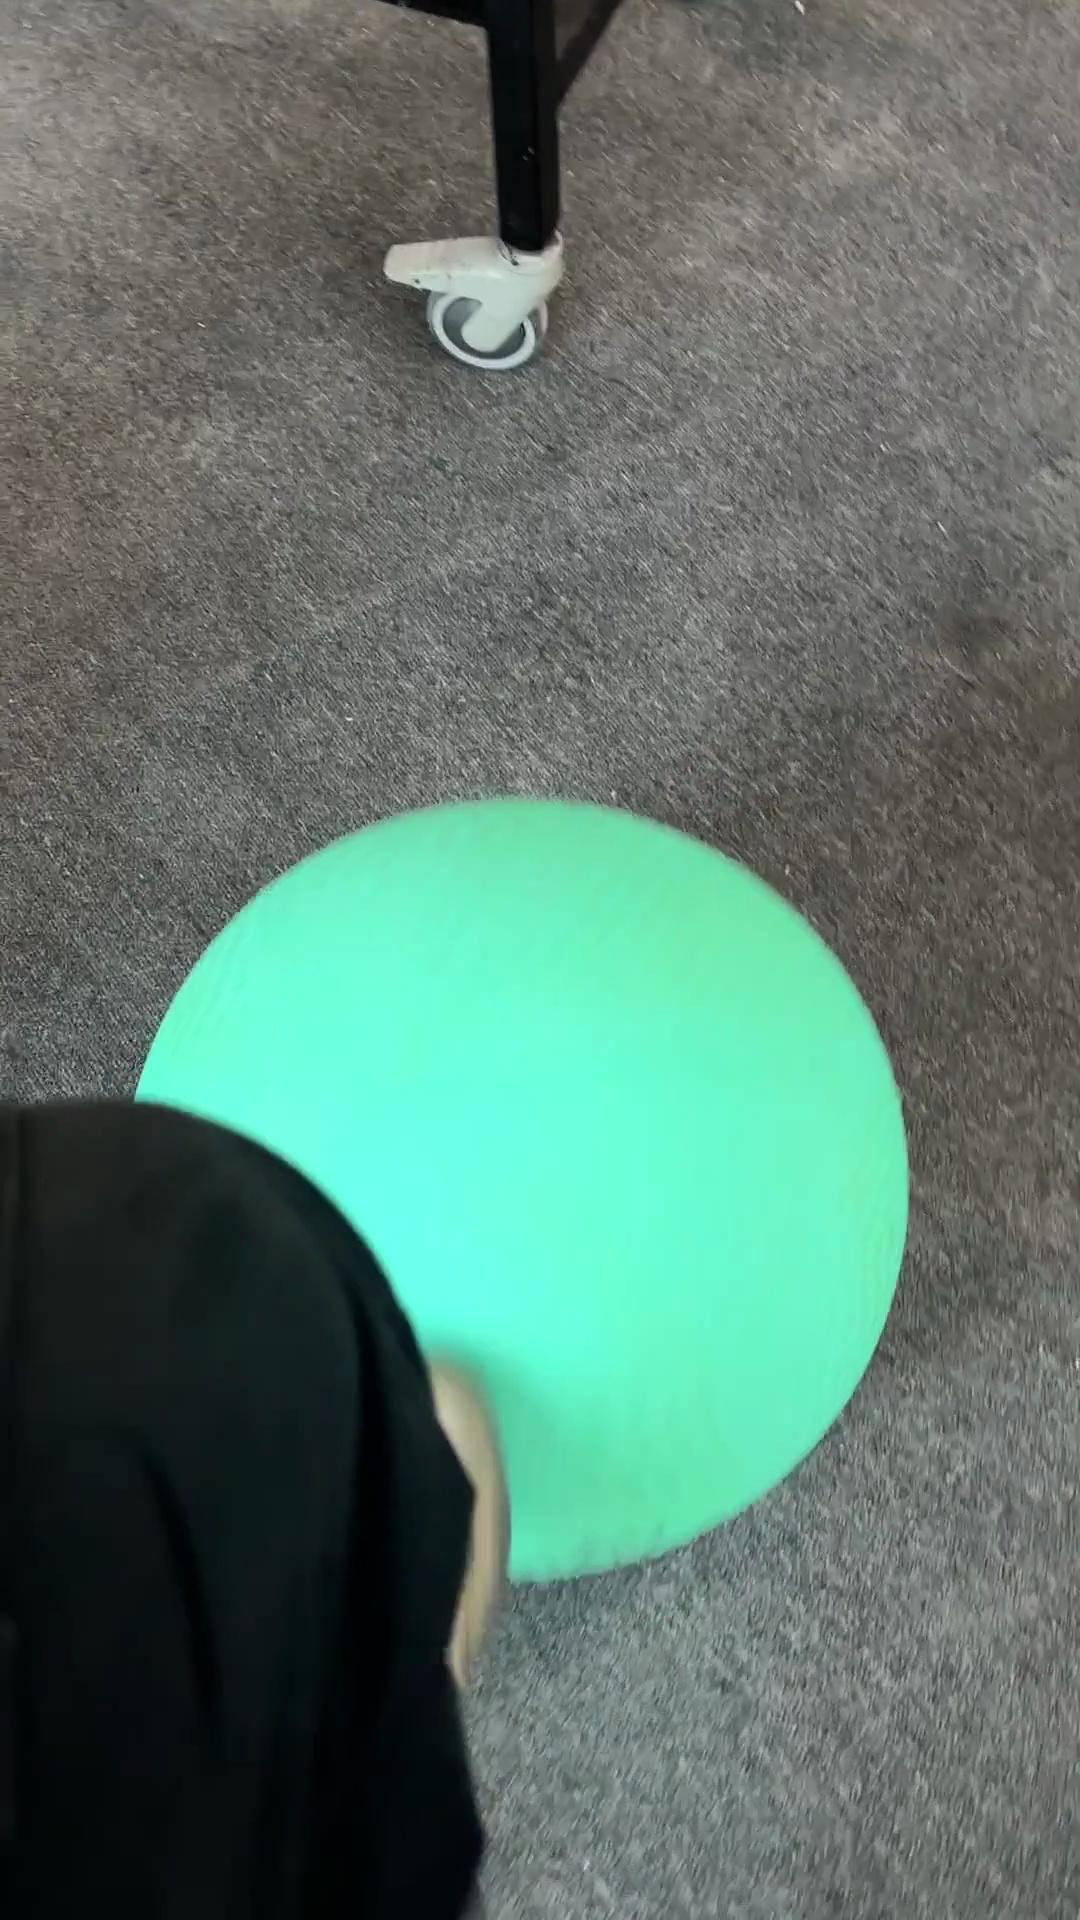ALGAE: (130, 793, 912, 1587)
